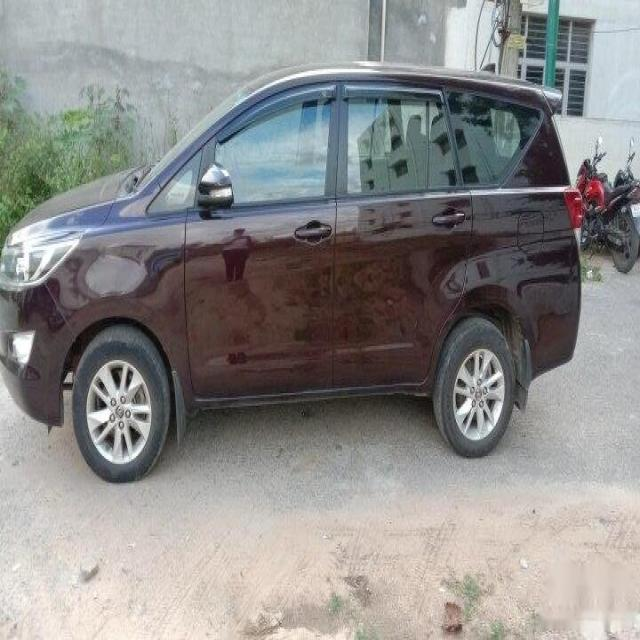light_vehicle: (0, 60, 583, 484)
